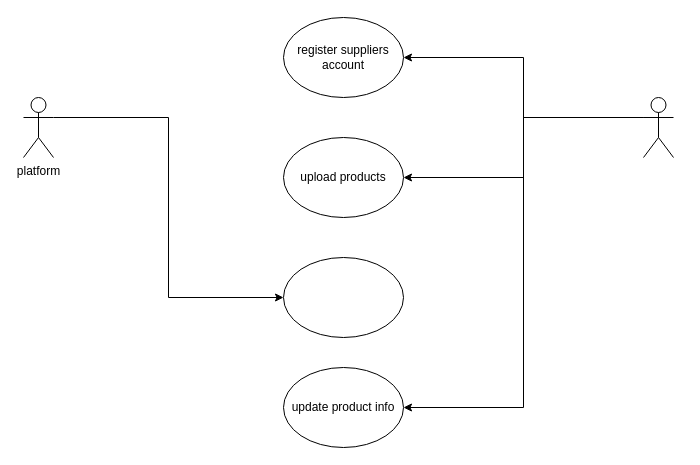
Image size: 700x465. Some labels were removed from this diagram. The centre of each missing label's shape, as x and y in pixels:
"approved product" goes at pixel 343 297.
"suppliers" goes at pixel 658 127.
